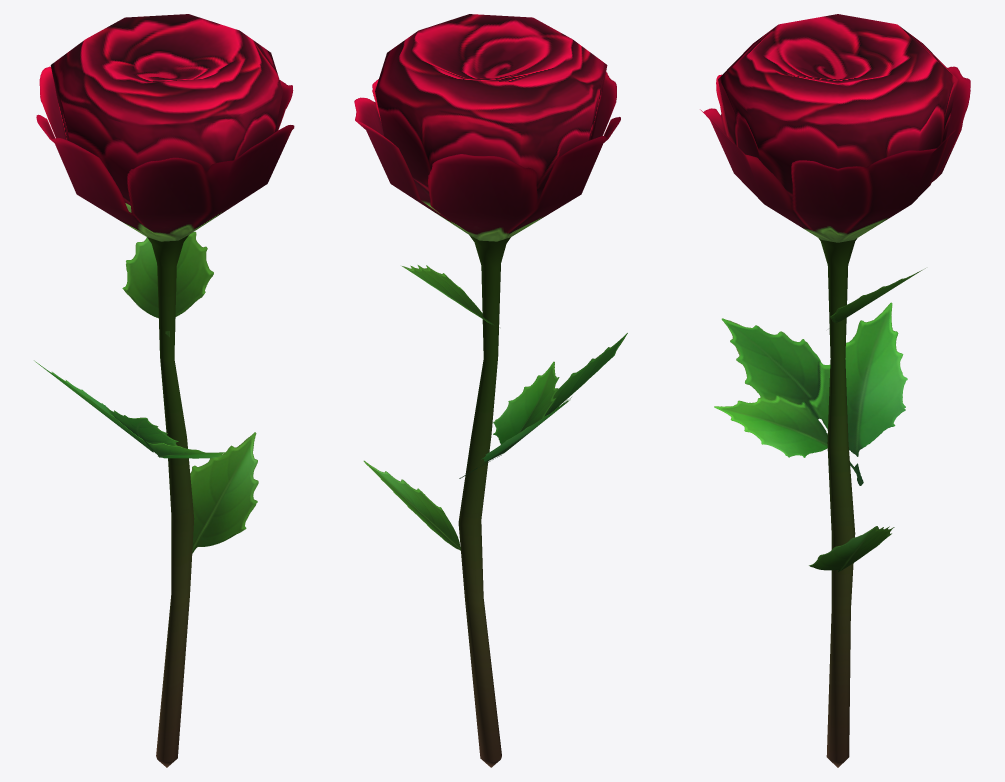
The model's file is SE_Rose_01.fbx.
The picture shows the model from 3 angles, left to right: view 1: azimuth 30°, elevation 25°; view 2: azimuth 150°, elevation 25°; view 3: azimuth 270°, elevation 25°; orthographic projection.
Parts seen in each view (by area): view 1: SE_Rose_01; view 2: SE_Rose_01; view 3: SE_Rose_01.
Boxes of the visible parts, <box> form: SE_Rose_01: <box>34,14,294,767</box>; SE_Rose_01: <box>354,14,627,767</box>; SE_Rose_01: <box>700,14,970,767</box>.
Size of the model in its own units: 0.8535 by 2.21 by 0.8535.
